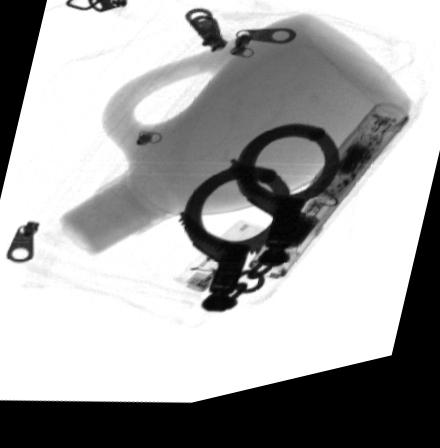Baton: (247, 120, 407, 291)
HandCuffs: (176, 136, 341, 325)
Lighter: (171, 229, 266, 302)
